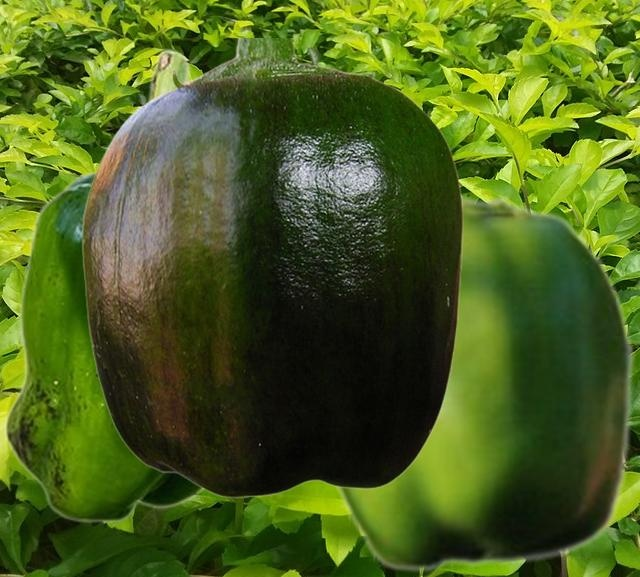bell_pepper: (81, 38, 463, 497), (327, 188, 634, 572), (3, 47, 203, 523)
